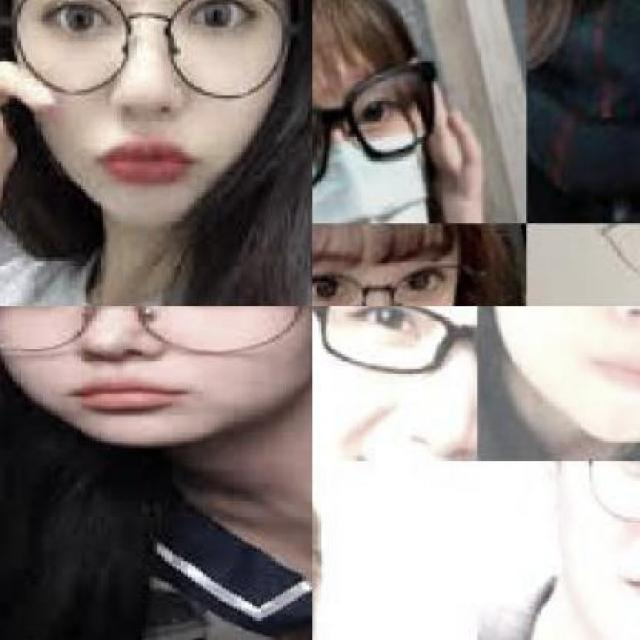mask: (3, 0, 292, 88), (0, 306, 311, 359), (312, 223, 511, 305), (312, 48, 439, 168), (313, 306, 477, 374)
